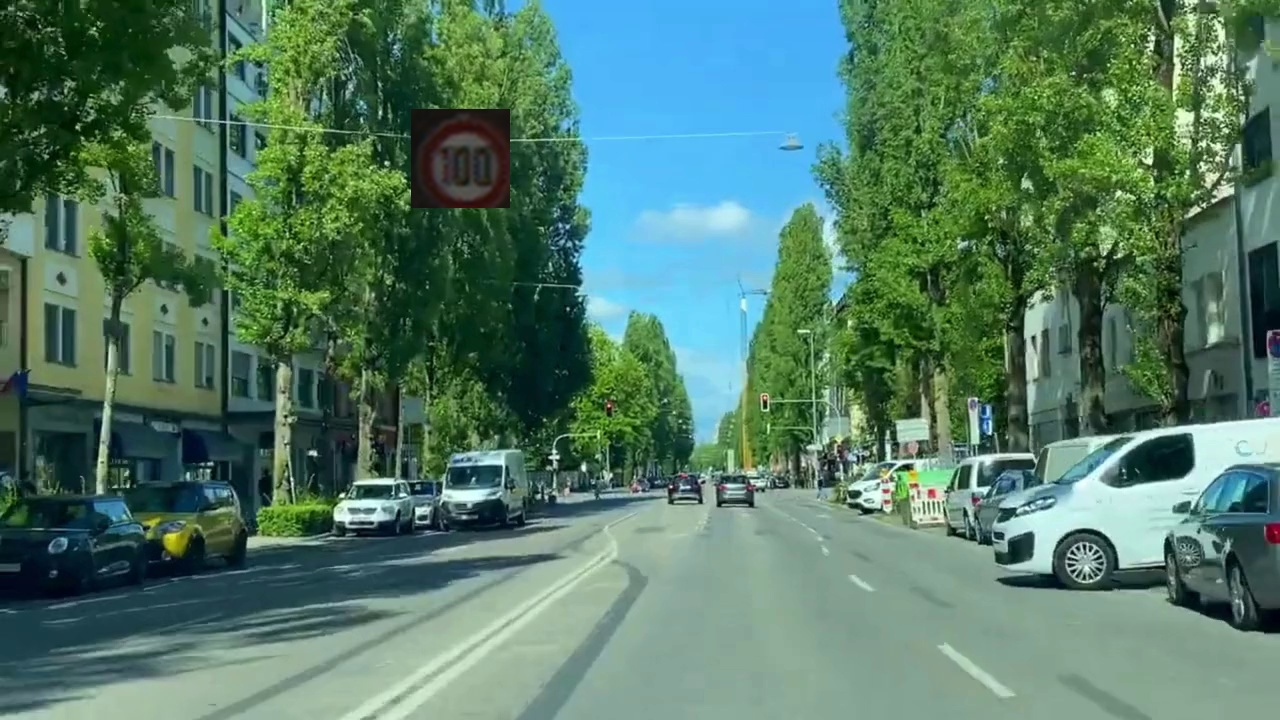Speed 100: (411, 109, 510, 208)
